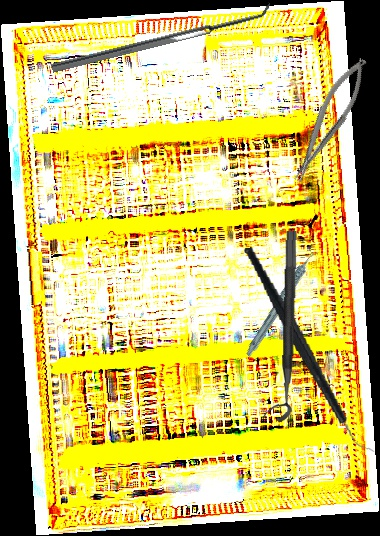Chopper: (243, 233, 376, 467)
Fixation Ring: (263, 230, 298, 422)
Handpiece: (227, 250, 338, 358)
Needle Holder: (281, 52, 377, 187)
Spatula Surgical: (48, 0, 274, 73)
